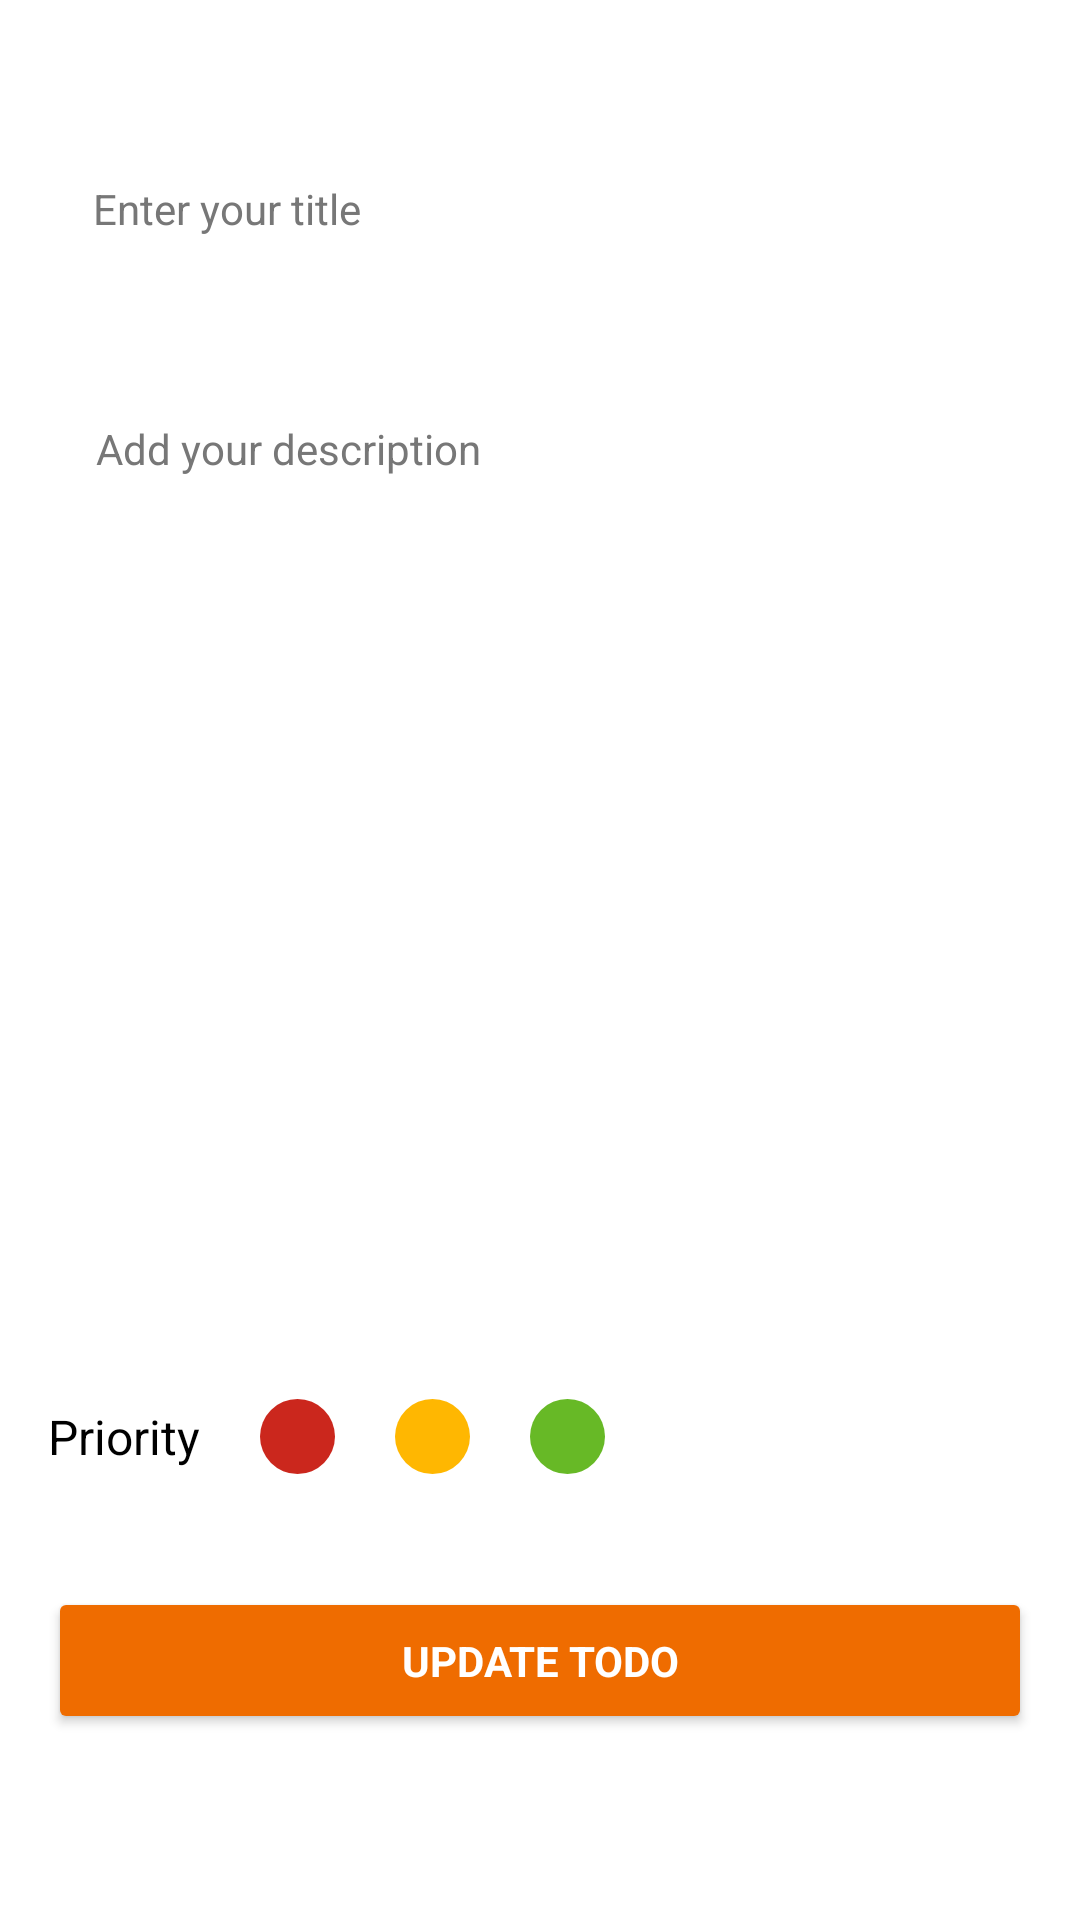

Icons on this 1080 × 1920 Android screen, each with its box as (x1, y1, x2, y2):
dot: (260, 1399, 335, 1474), (395, 1399, 470, 1474), (530, 1399, 605, 1474)
